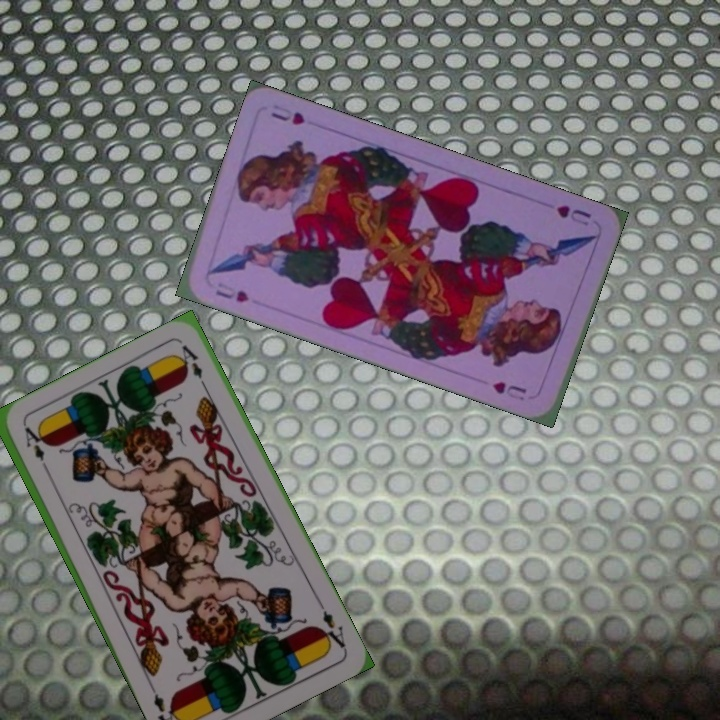EA: (20, 422, 54, 478), (314, 597, 348, 651)
HU: (552, 201, 593, 229), (211, 278, 251, 306)
